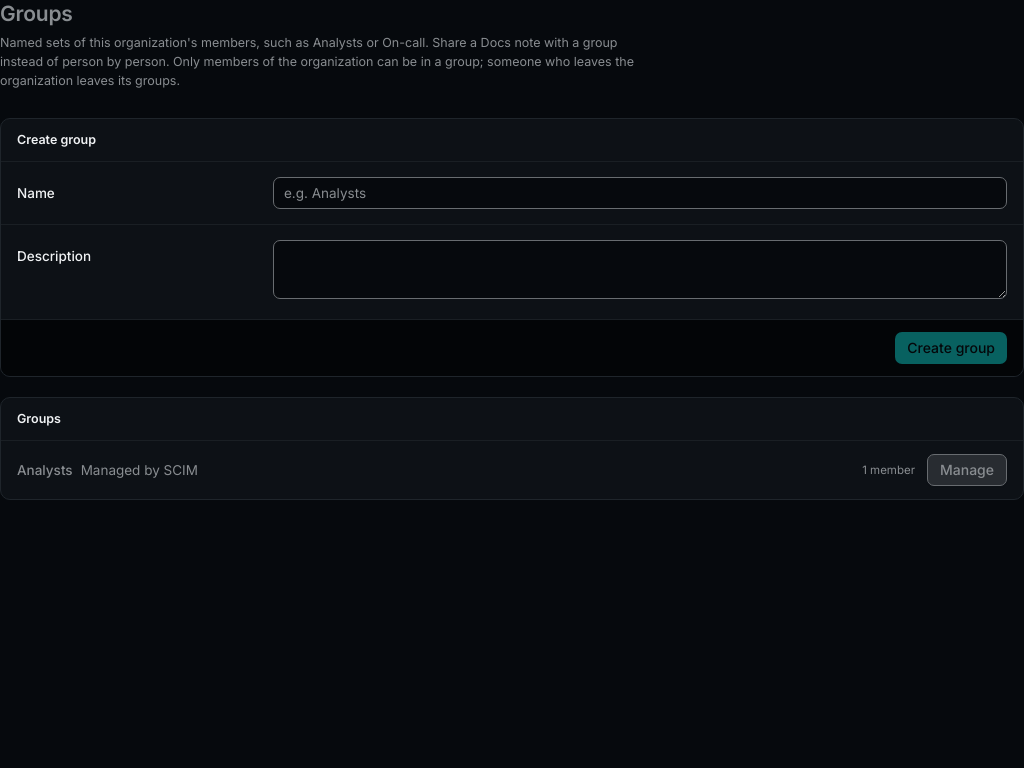
Test: Organization › Groups › marks a SCIM-managed group and offers no manual rename or member edit
Click the button with aria-label "Manage Analysts" at (967, 470), box [927,454,1007,486]
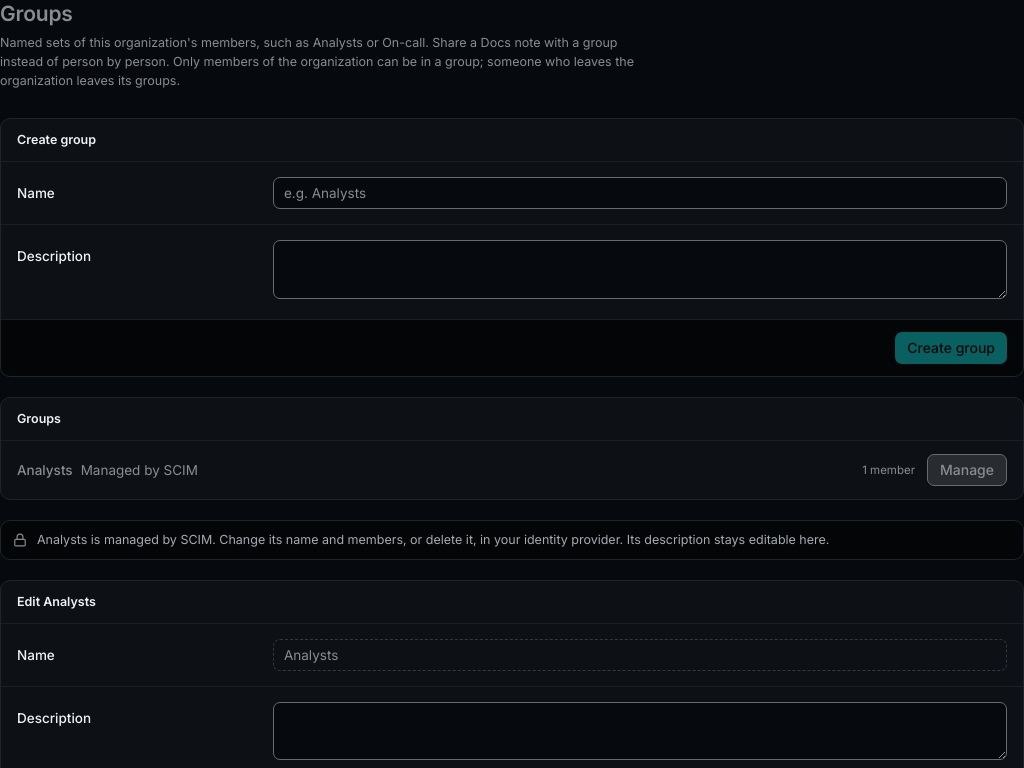
Check: the text "is managed by SCIM. Change its name and members, or delete it, in your identity provider" is shown, box [87,532,829,547]
Check: the field showing "Analysts" below "Edit Analysts" is disabled, box [273,639,1007,671]
